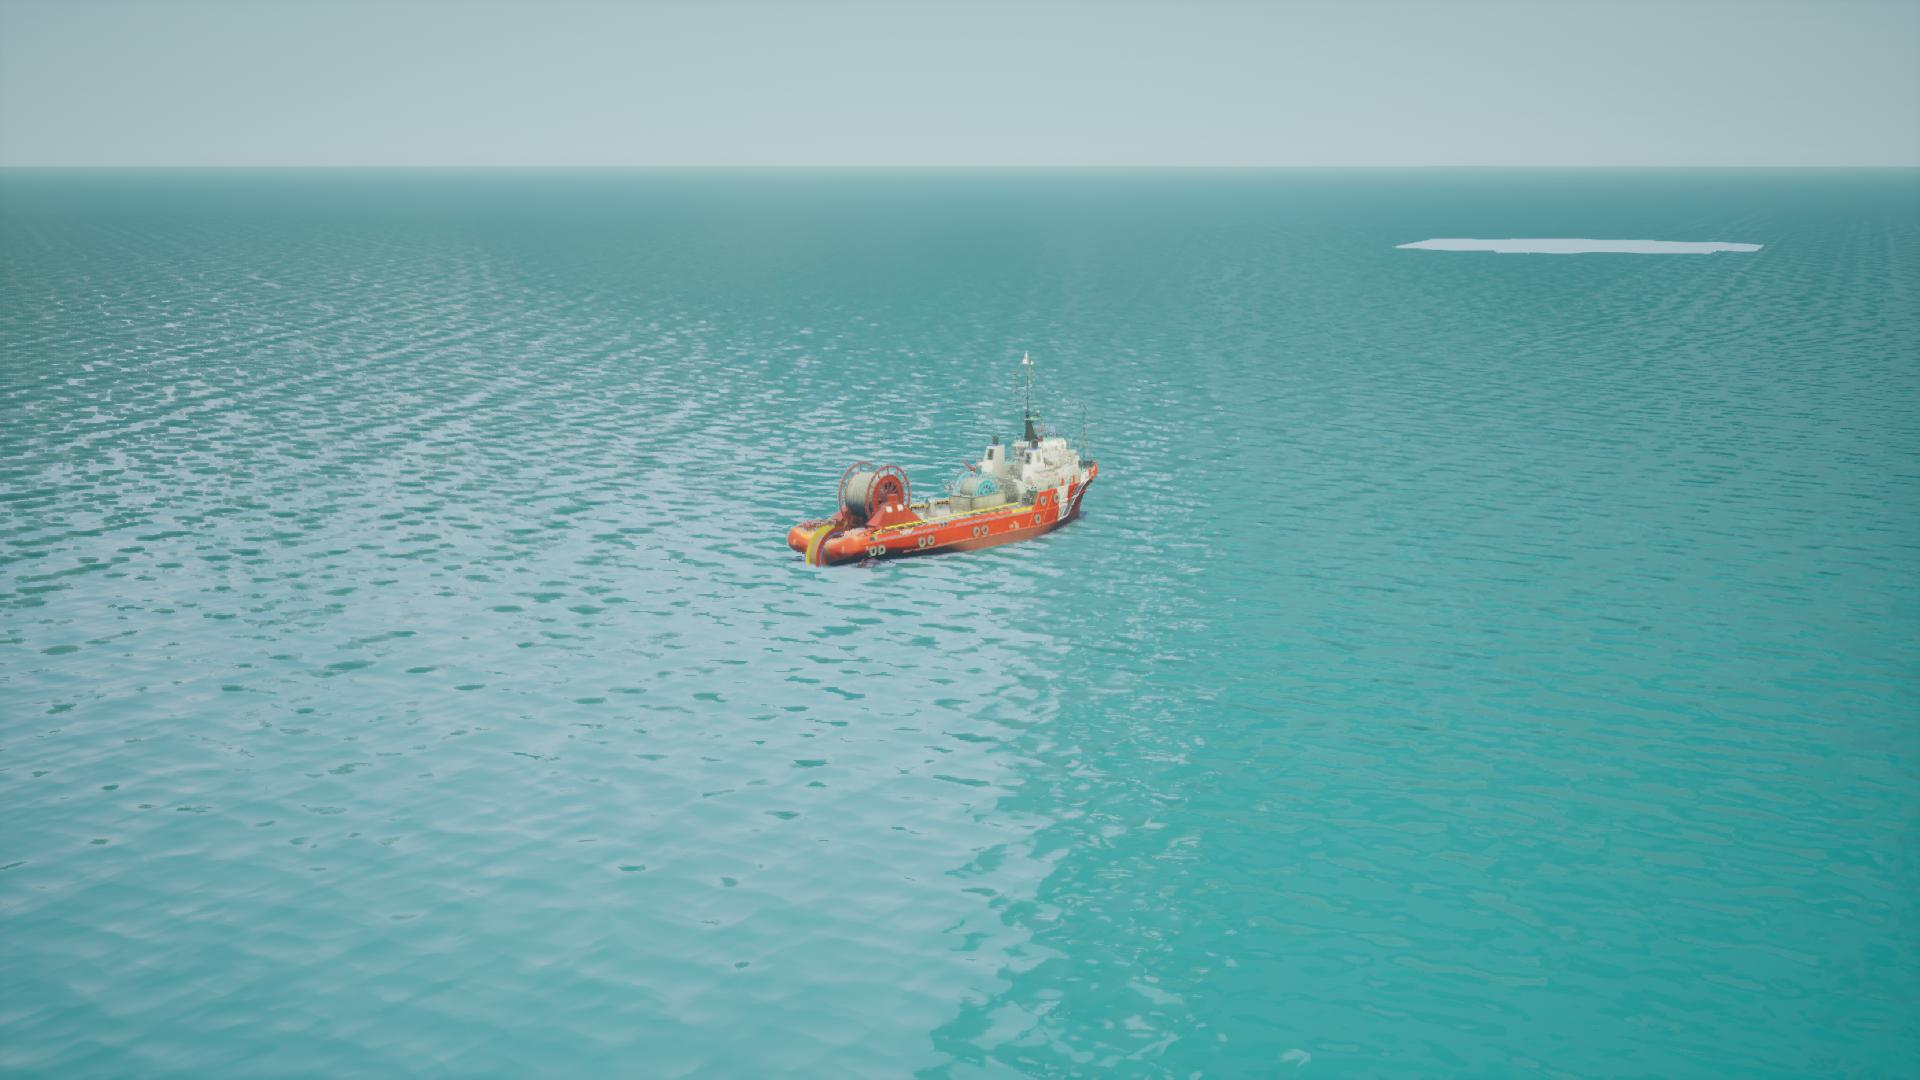Tug Boat: (787, 353, 1104, 576)
